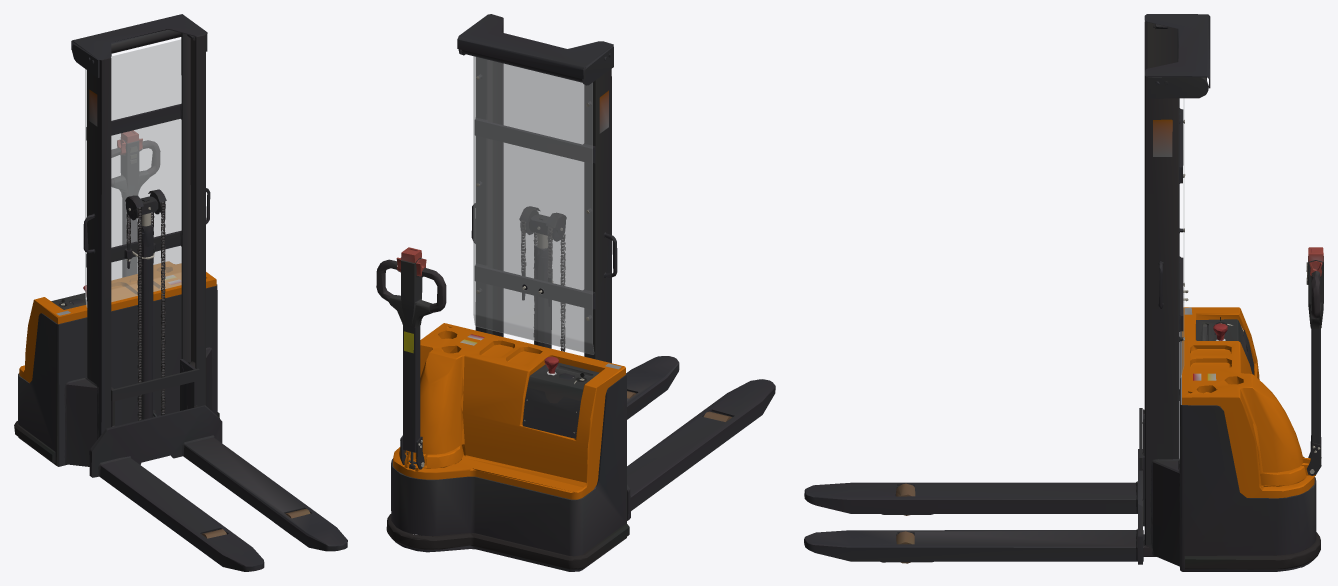
The model's file is stacker.glb.
3 views of the same model, side by side, from view 1: azimuth 30°, elevation 25°; view 2: azimuth 150°, elevation 25°; view 3: azimuth 270°, elevation 25° (orthographic). The views are drawn at different scales.
Visible parts, largest first — view 1: body, forks, tiller; view 2: body, forks, tiller; view 3: body, forks, tiller.
Boxes of the visible parts, x1=… form: body: x1=14, y1=14, x2=310, y2=538; forks: x1=89, y1=359, x2=347, y2=571; tiller: x1=83, y1=130, x2=160, y2=295; body: x1=386, y1=14, x2=732, y2=571; forks: x1=626, y1=356, x2=775, y2=520; tiller: x1=376, y1=247, x2=558, y2=469; body: x1=880, y1=14, x2=1320, y2=571; forks: x1=804, y1=408, x2=1144, y2=564; tiller: x1=1213, y1=247, x2=1323, y2=475.
Bounding box in the file's own units: 0.8202 × 1.96 × 1.88.
